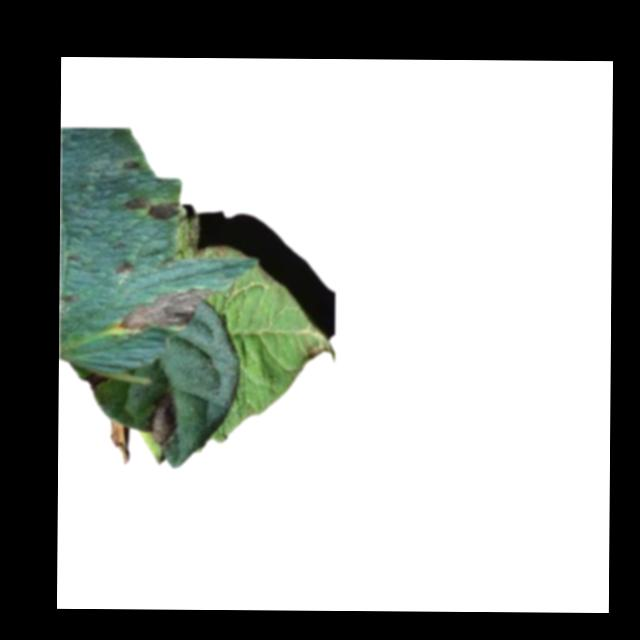Early_blight: (116, 285, 212, 330), (151, 393, 178, 445), (123, 196, 180, 219), (111, 421, 129, 465), (116, 259, 135, 276)
